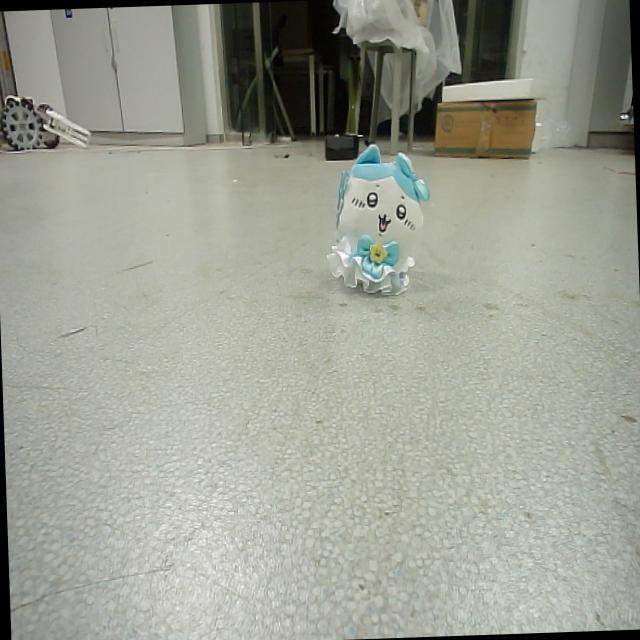xiaoba: (332, 143, 430, 298)
